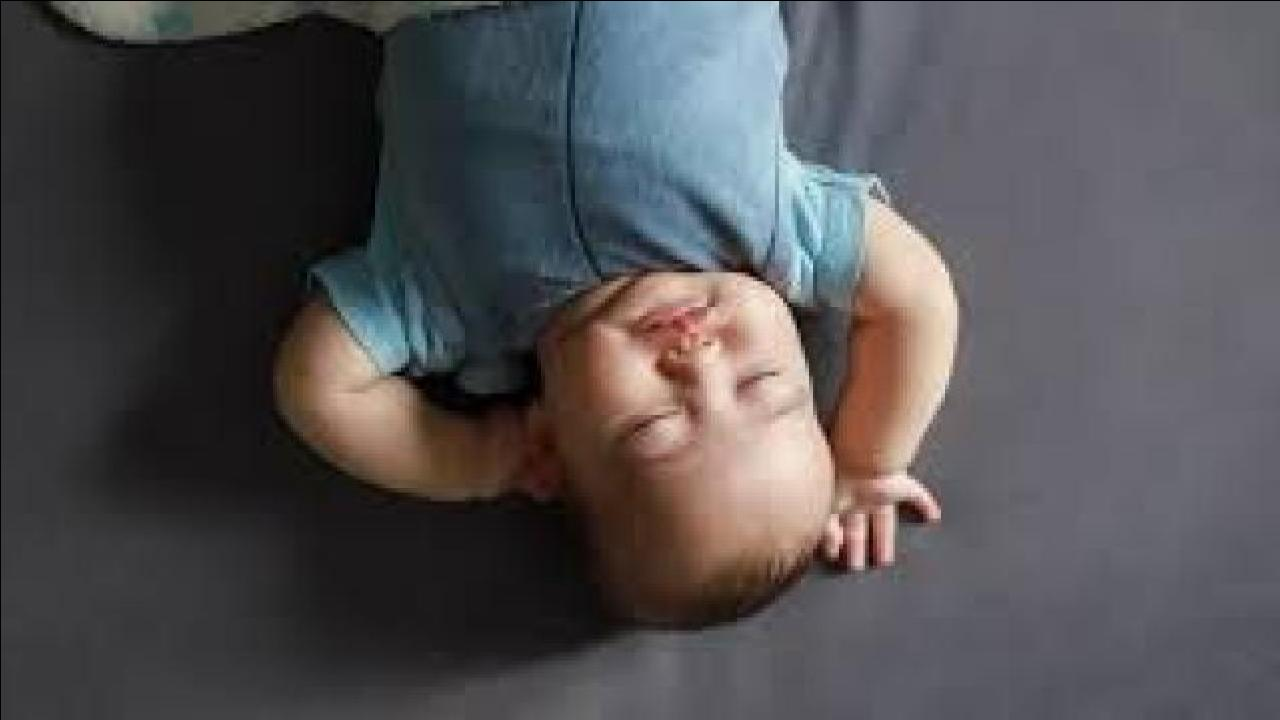hand: (806, 470, 950, 572)
